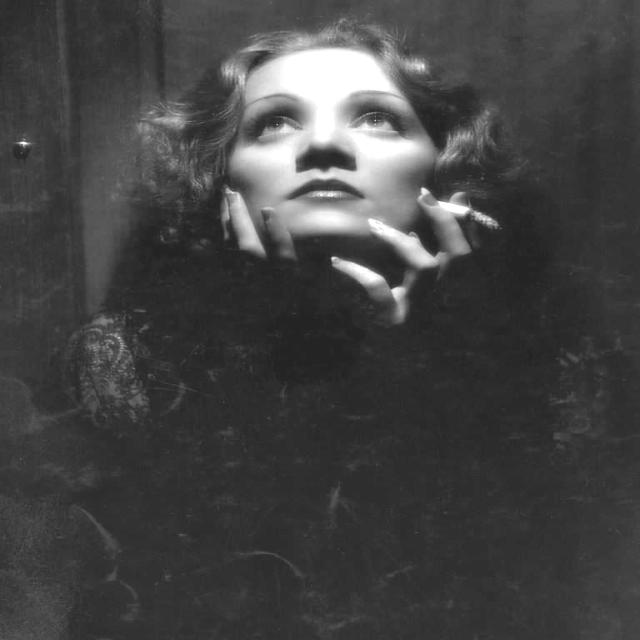Smooking: (418, 186, 508, 235)
